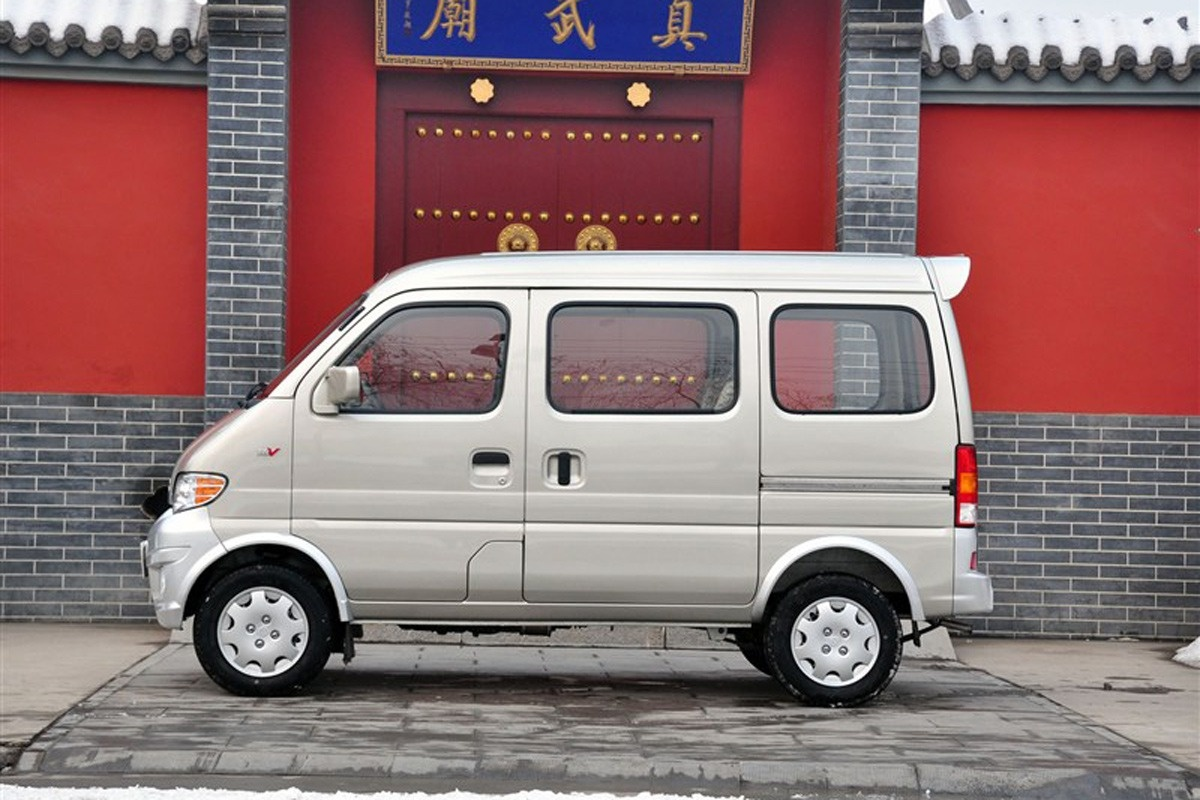minibus: (143, 214, 998, 718)
